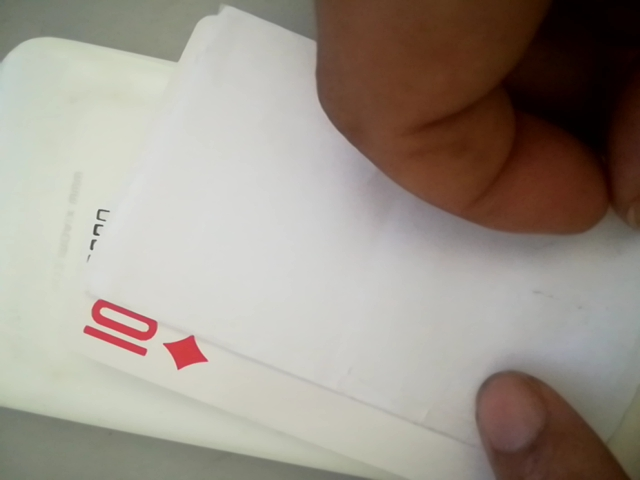fk 10: (73, 297, 203, 375)
